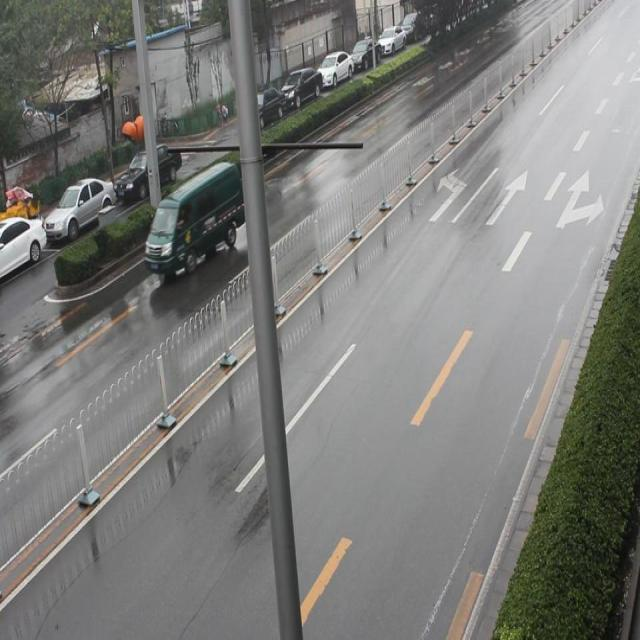truck: (144, 154, 244, 275)
